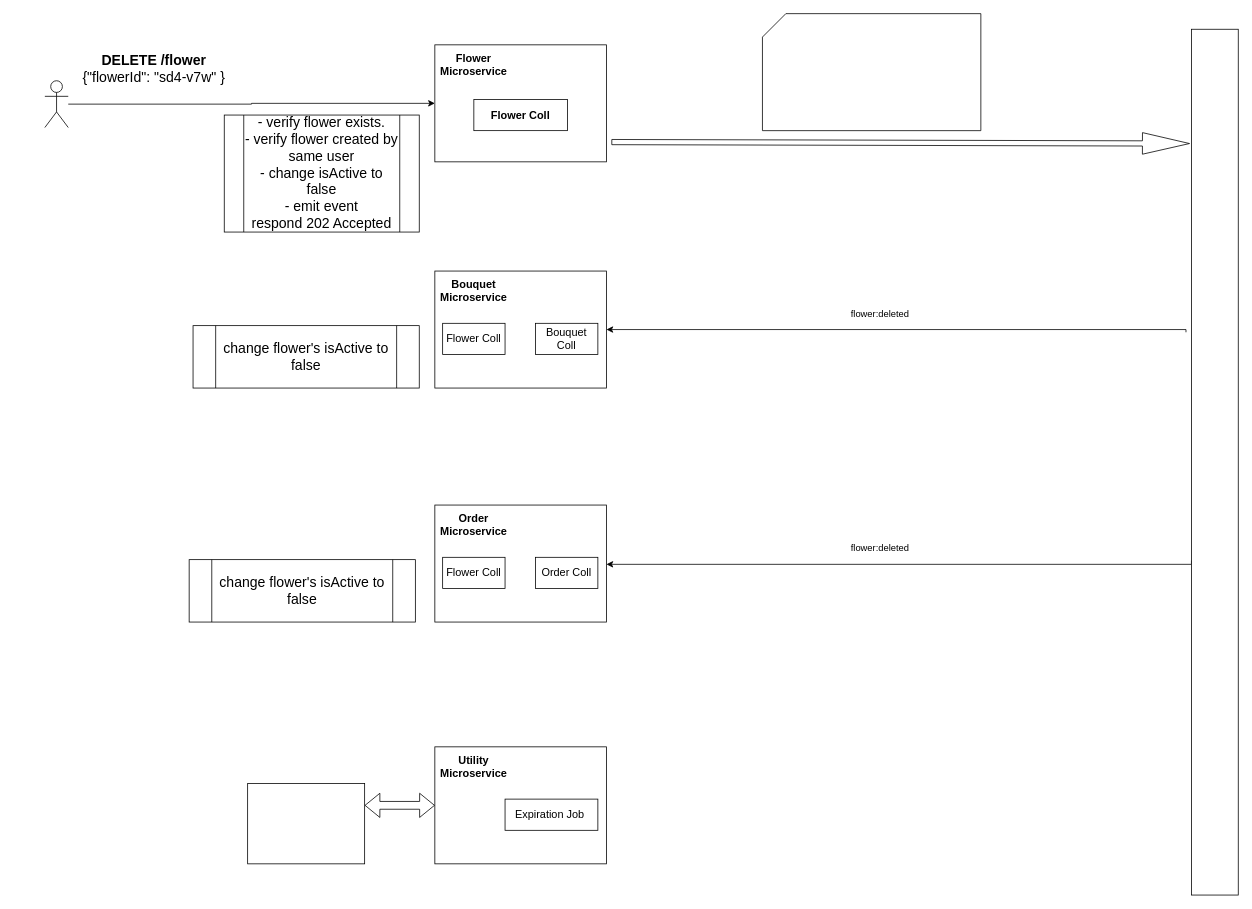
The diagram is 1252 pixels wide and 909 high, and some of its shapes have lost their labels. The shapes that lost their labels are listed below. From the top down, each one's centre as x and y in pixels, then its label:
(871,72): subject: "flower:deleted", data: { flowerId: "ecig-3nw9" }
(56,104): Actor
(1214,461): E V E N T B U S
(306,823): Redis in-mem
